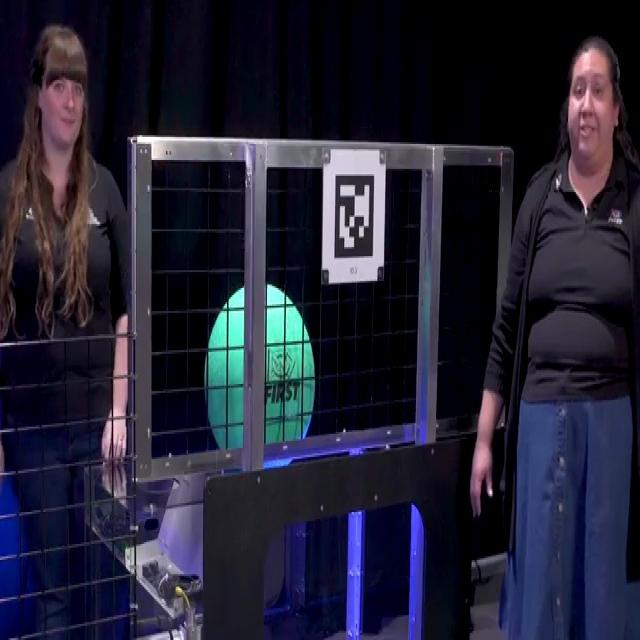Algae: (203, 281, 316, 450)
